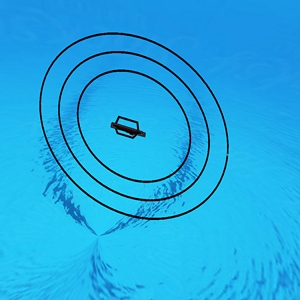circle: (36, 24, 234, 223)
submarine: (111, 113, 147, 140)
